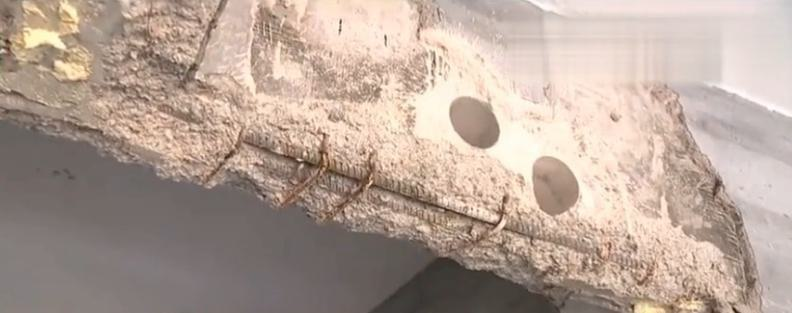Exposed reinforcement: (243, 130, 652, 273), (445, 193, 512, 253), (279, 131, 330, 208), (323, 152, 376, 223), (198, 127, 245, 188)
Spalling: (1, 1, 767, 313), (531, 155, 580, 217), (448, 95, 501, 149)
